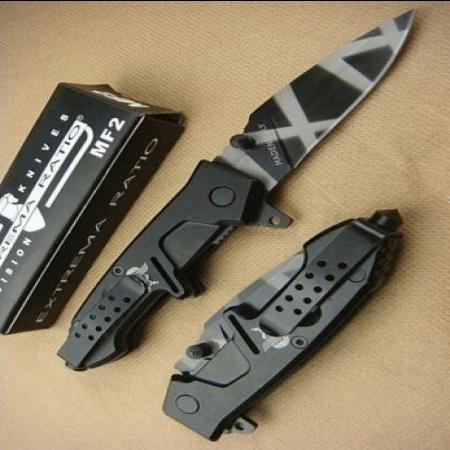long weapon: (206, 3, 424, 196)
